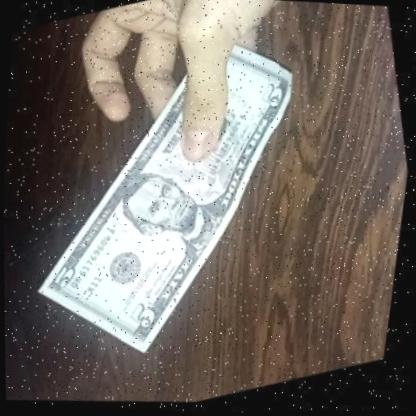five-front: (0, 8, 368, 402)
